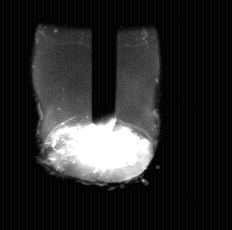arame: (94, 0, 117, 124)
poca: (43, 0, 154, 230)
